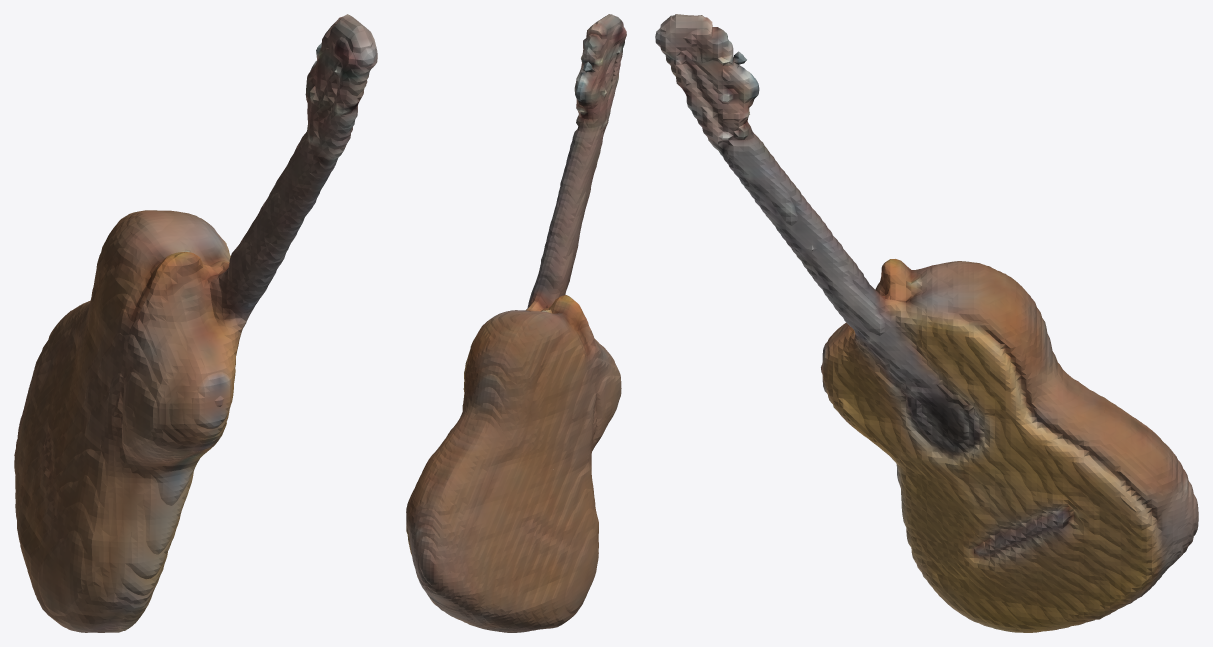
File: guitar.glb
3 views of the same model, side by side, from view 1: azimuth 30°, elevation 25°; view 2: azimuth 150°, elevation 25°; view 3: azimuth 270°, elevation 25° (orthographic). The views are drawn at different scales.
Parts seen in each view (by area): view 1: world; view 2: world; view 3: world.
Part boxes in pixels (box(x1,y1,x2,y2)): world: box(14, 14, 377, 632); world: box(406, 14, 626, 632); world: box(655, 14, 1198, 632).
Size of the model in its own units: 0.2269 by 0.9311 by 0.7088.
